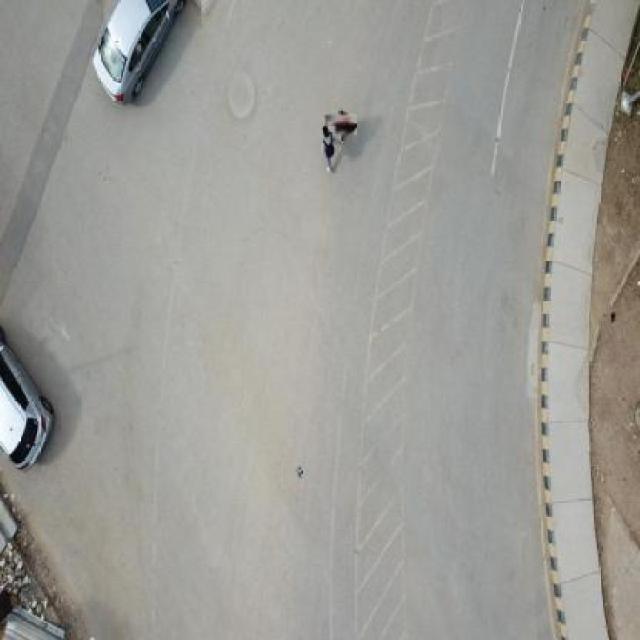Person: (328, 112, 355, 140), (320, 126, 335, 174)
